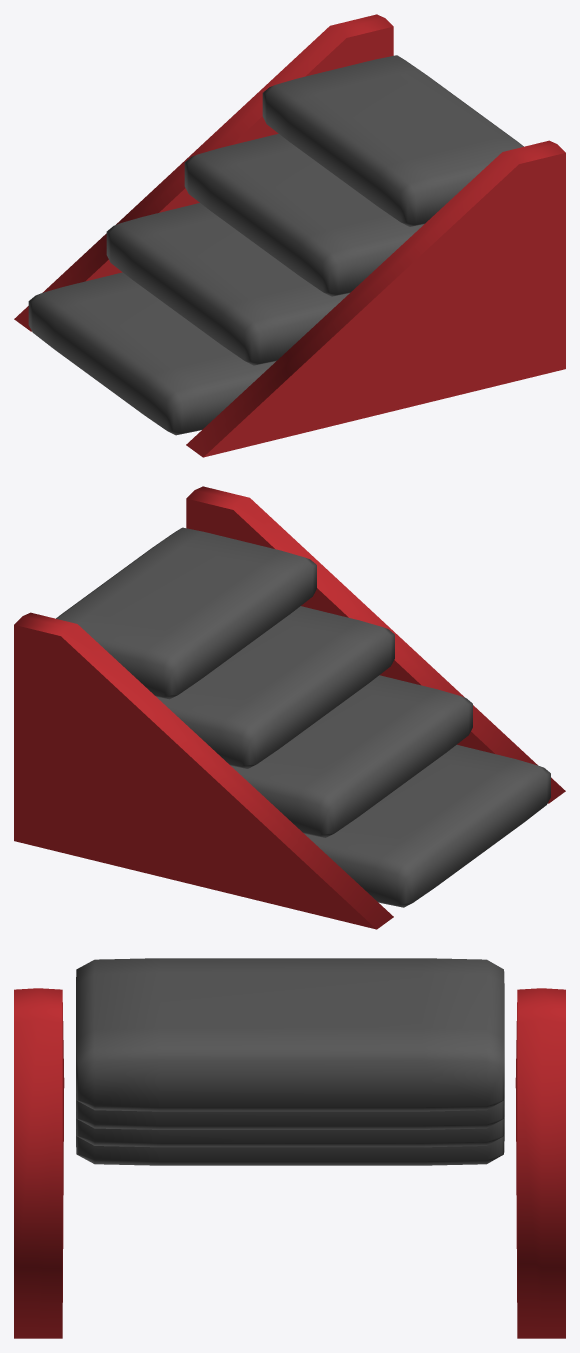
The model's file is Escalera 02 rojo.fbx.
3 views of the same model, one above another, from view 1: azimuth 30°, elevation 25°; view 2: azimuth 150°, elevation 25°; view 3: azimuth 270°, elevation 25° (orthographic). The views are drawn at different scales.
Parts seen in each view (by area): view 1: Cube.002; view 2: Cube.002; view 3: Cube.002.
Part boxes in pixels (box(x1,y1,x2,y2)): Cube.002: box(14, 14, 565, 457); Cube.002: box(14, 486, 565, 929); Cube.002: box(14, 958, 565, 1338).
Size of the model in its own units: 135 by 75.62 by 119.
